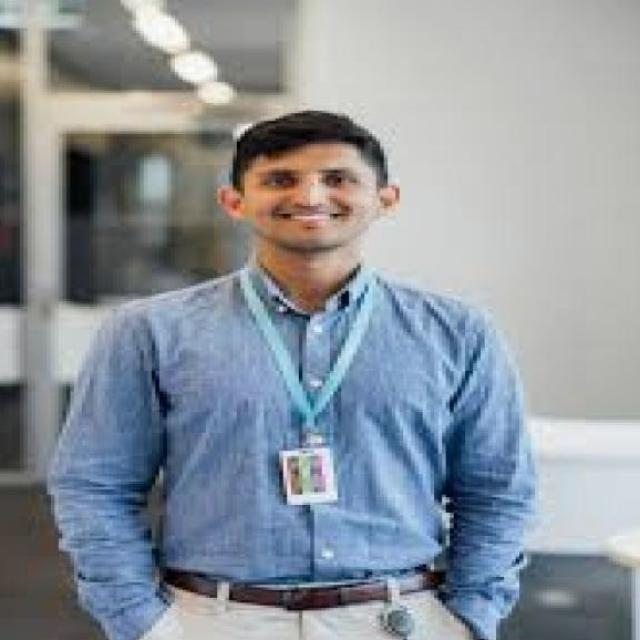ID_card: (249, 282, 378, 508)
